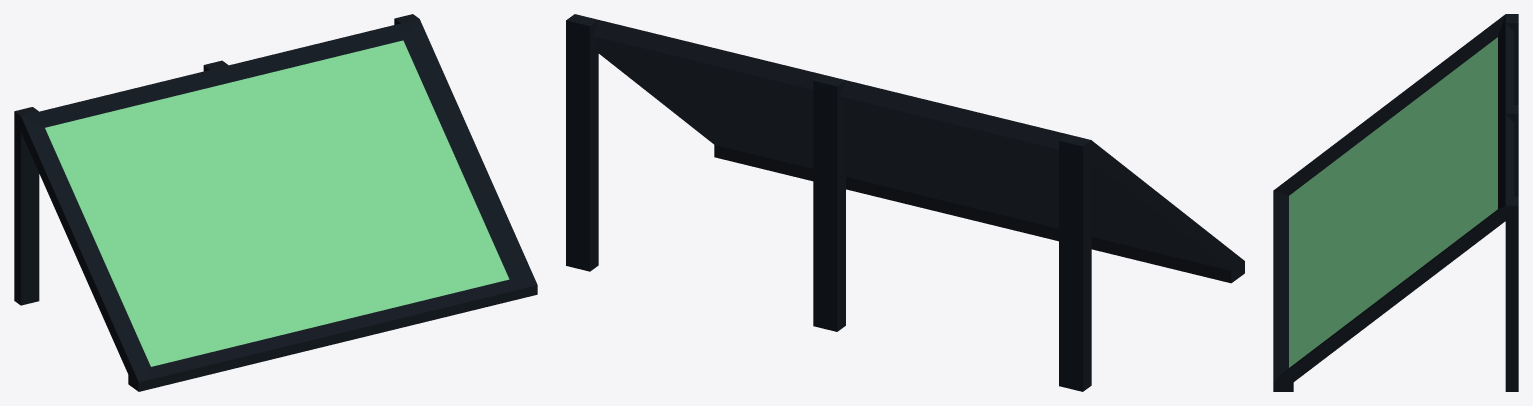
File: solar power.fbx
3 views of the same model, side by side, from view 1: azimuth 30°, elevation 25°; view 2: azimuth 150°, elevation 25°; view 3: azimuth 270°, elevation 25° (orthographic). The views are drawn at different scales.
Parts seen in each view (by area): view 1: Cube; view 2: Cube; view 3: Cube.
Boxes of the visible parts, bbox=[...] form: Cube: bbox=[14, 14, 537, 391]; Cube: bbox=[566, 14, 1244, 391]; Cube: bbox=[1273, 14, 1518, 391].
Bounding box in the file's own units: 600 × 272 × 325.
